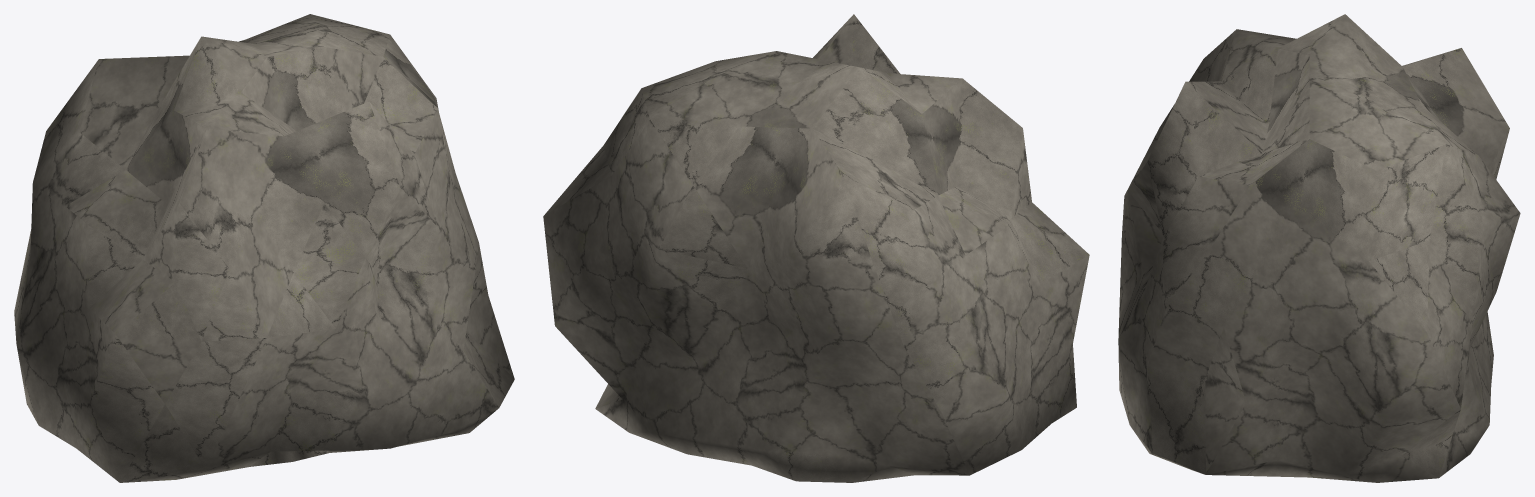
Rendered from rock_b.glb.
3 views of the same model, side by side, from view 1: azimuth 30°, elevation 25°; view 2: azimuth 150°, elevation 25°; view 3: azimuth 270°, elevation 25° (orthographic).
Visible parts, largest first — view 1: rock_b; view 2: rock_b; view 3: rock_b.
Boxes of the visible parts, bbox=[...] form: rock_b: bbox=[14, 14, 514, 482]; rock_b: bbox=[543, 14, 1089, 482]; rock_b: bbox=[1118, 14, 1520, 482].
Bounding box in the file's own units: 2.5 × 1.96 × 1.99.
Materials: 1 (1 with a texture image).
